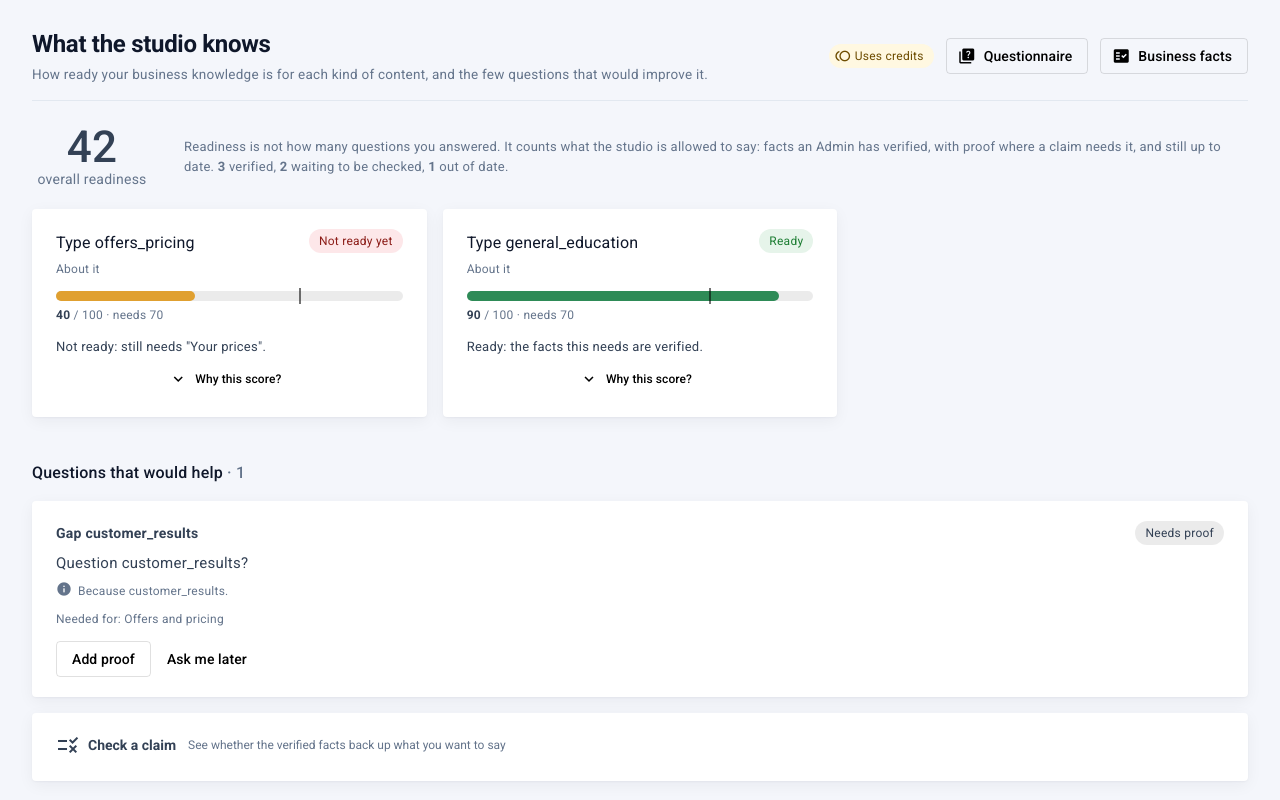
Scenario: StudioReadinessComponent › asks only for the proof when the fact is already there and just lacks it
Step 1. Click the button with class "answer-gap" → coordinates (103, 659), box [56, 641, 151, 677]
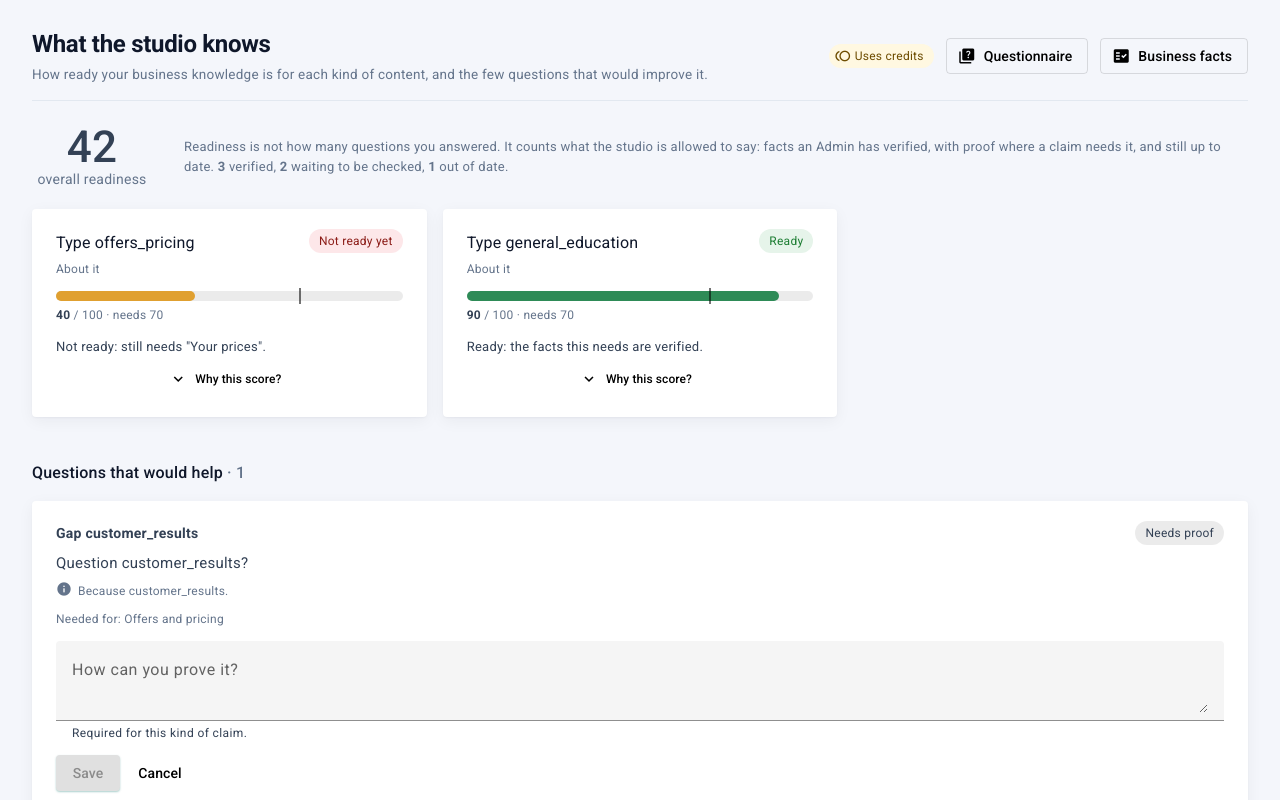
Expected: the element that starts with "Gap customer_results" shows "Needs proof", [1146, 526, 1214, 540]
Result: the text box labelled "How can you prove it?" is shown at [72, 665, 1208, 713]
